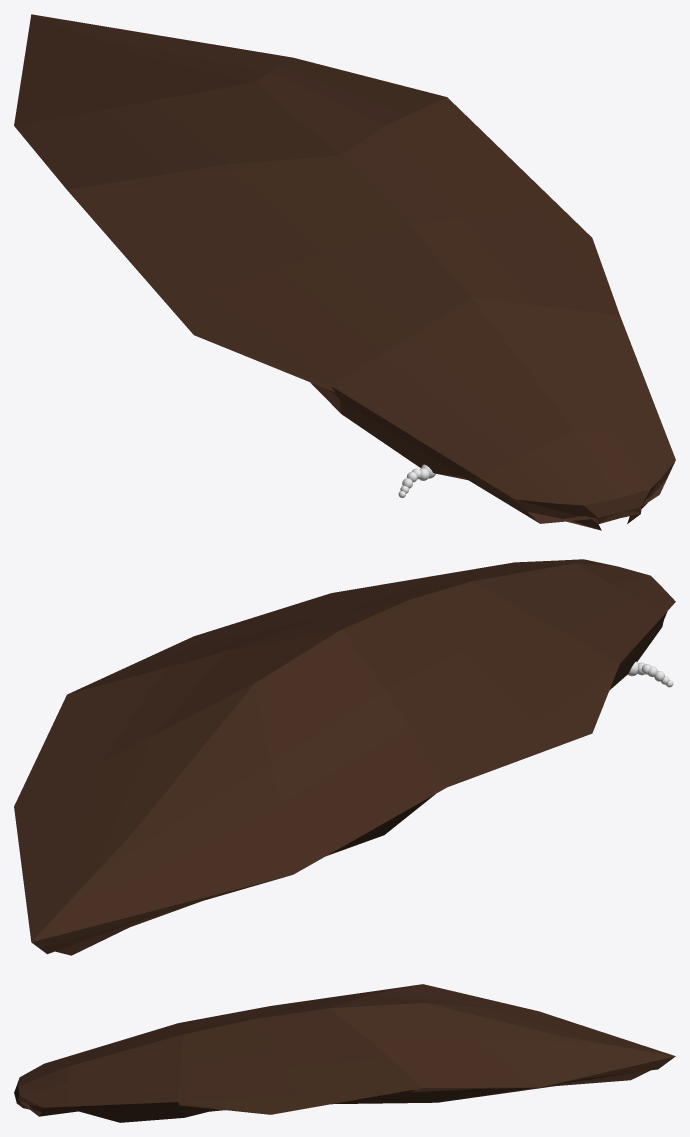
Rendered from cockreupdate0906.fbx.
The picture shows the model from 3 angles, top to bottom: view 1: azimuth 30°, elevation 25°; view 2: azimuth 150°, elevation 25°; view 3: azimuth 270°, elevation 25°; orthographic projection. The views are drawn at different scales.
Visible parts, largest first — view 1: Cube.001; view 2: Cube.001; view 3: Cube.001.
Part boxes in pixels (x1,y1,x2,y2): Cube.001: (14, 14, 675, 530); Cube.001: (14, 559, 675, 955); Cube.001: (14, 984, 675, 1122).
Bounding box in the file's own units: 334 × 146 × 857.
